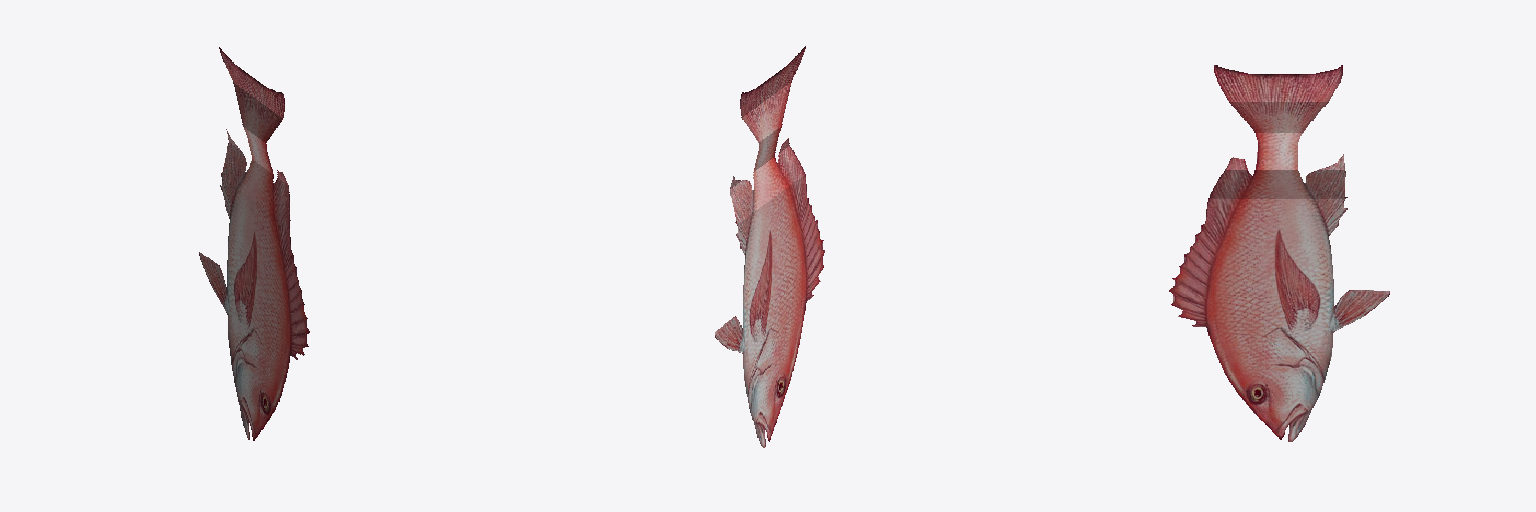
The picture shows the model from 3 angles: view 1: azimuth 30°, elevation 25°; view 2: azimuth 150°, elevation 25°; view 3: azimuth 270°, elevation 25°; orthographic projection.
Bounding box in the file's own units: 0.0614 × 1.98 × 1.06.
1 materials, 1 textured.